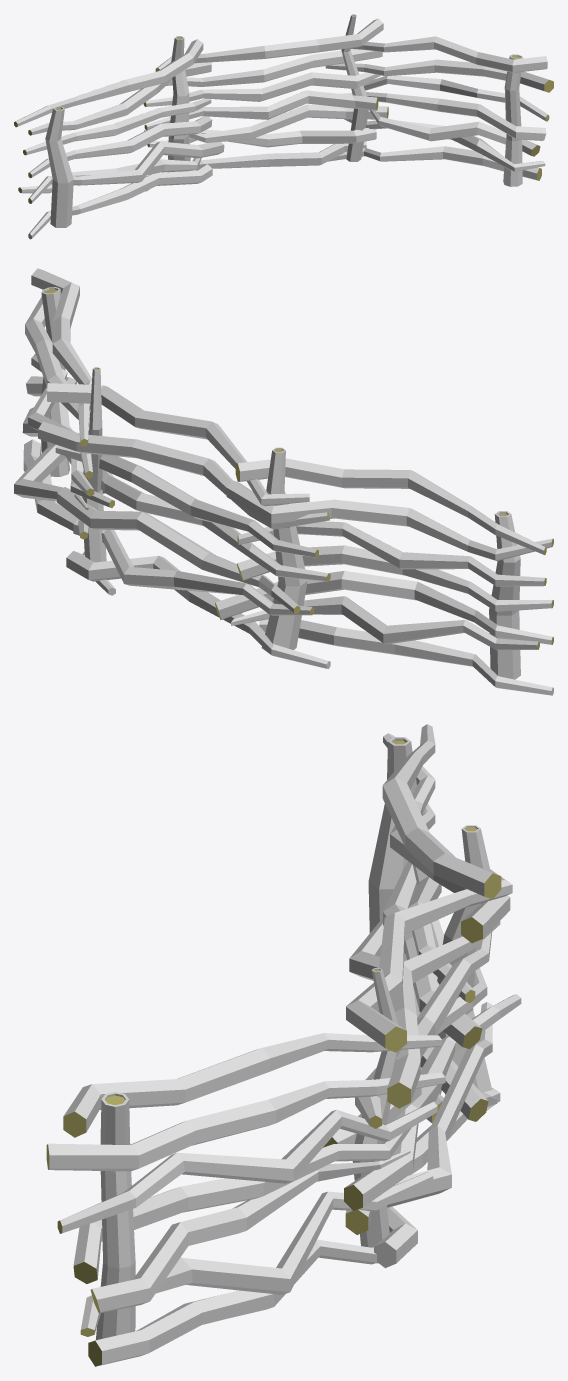
File: Fence.fbx
3 renders of one model, top to bottom at view 1: azimuth 30°, elevation 25°; view 2: azimuth 150°, elevation 25°; view 3: azimuth 270°, elevation 25°, orthographic. The views are drawn at different scales.
Parts seen in each view (by area): view 1: Fence; view 2: Fence; view 3: Fence.
Boxes of the visible parts, left/top/right/bottom form: Fence: left=14, top=14, right=553, bottom=239; Fence: left=14, top=268, right=553, bottom=695; Fence: left=46, top=724, right=521, bottom=1366.
Size of the model in its own units: 1212 by 384 by 559.
